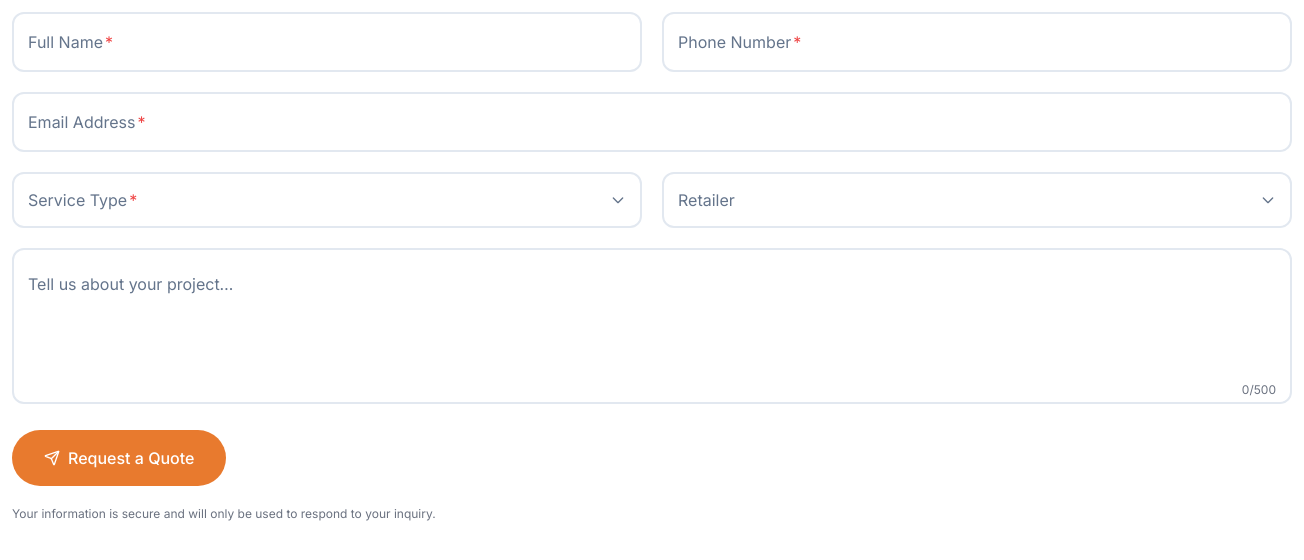
Test: ContactForm › shows email validation error for invalid email
The width and height of the screenshot is (1304, 560).
Type "notanemail" into the field labelled "Email Address*" at (652, 122), box [12,92,1292,152]
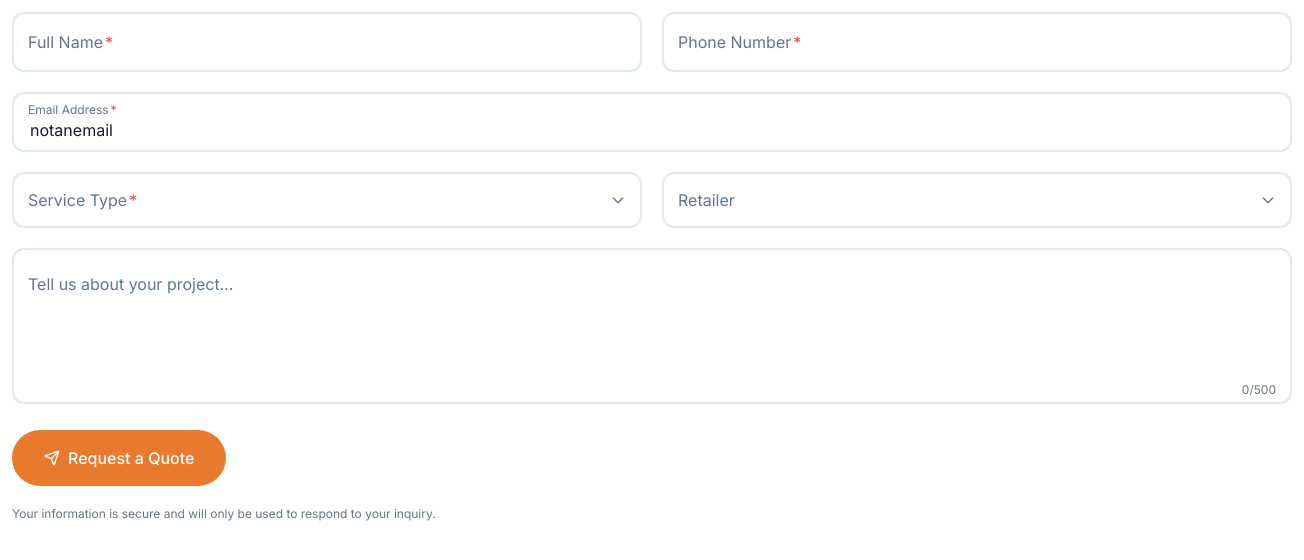
Leave the field labelled "Email Address*", box [12,92,1292,152]
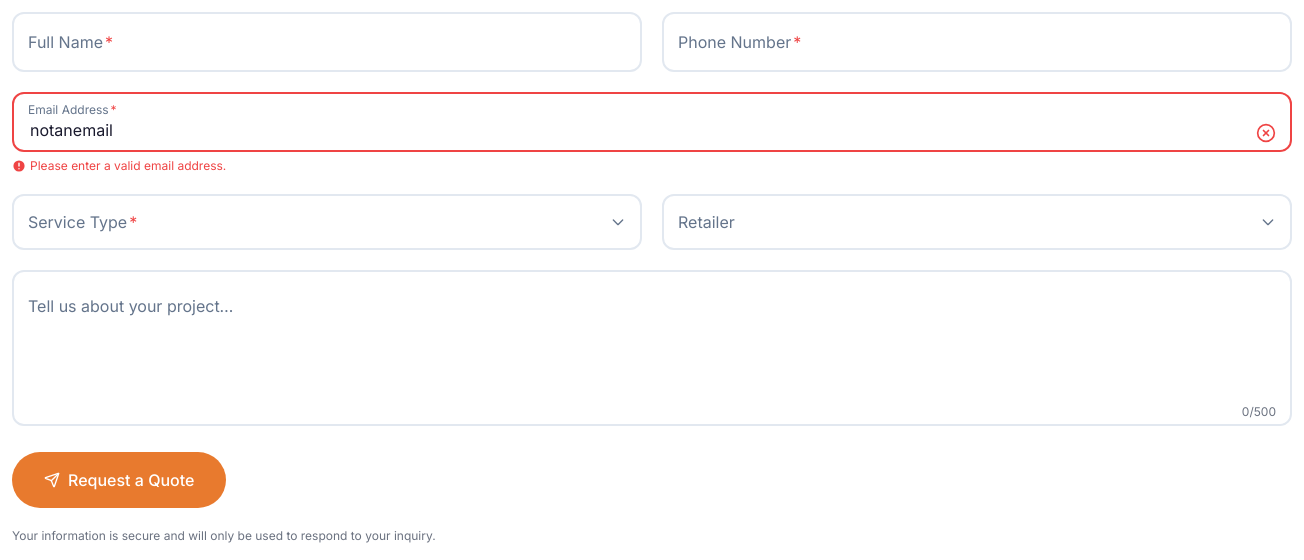
Check: the text "Please enter a valid email address." is shown, box [12,158,226,173]
